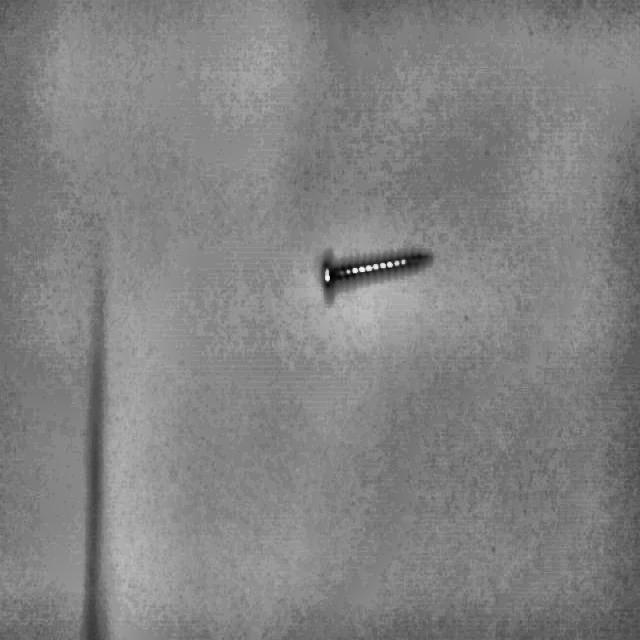Sheet metal screw: (321, 250, 432, 286)
